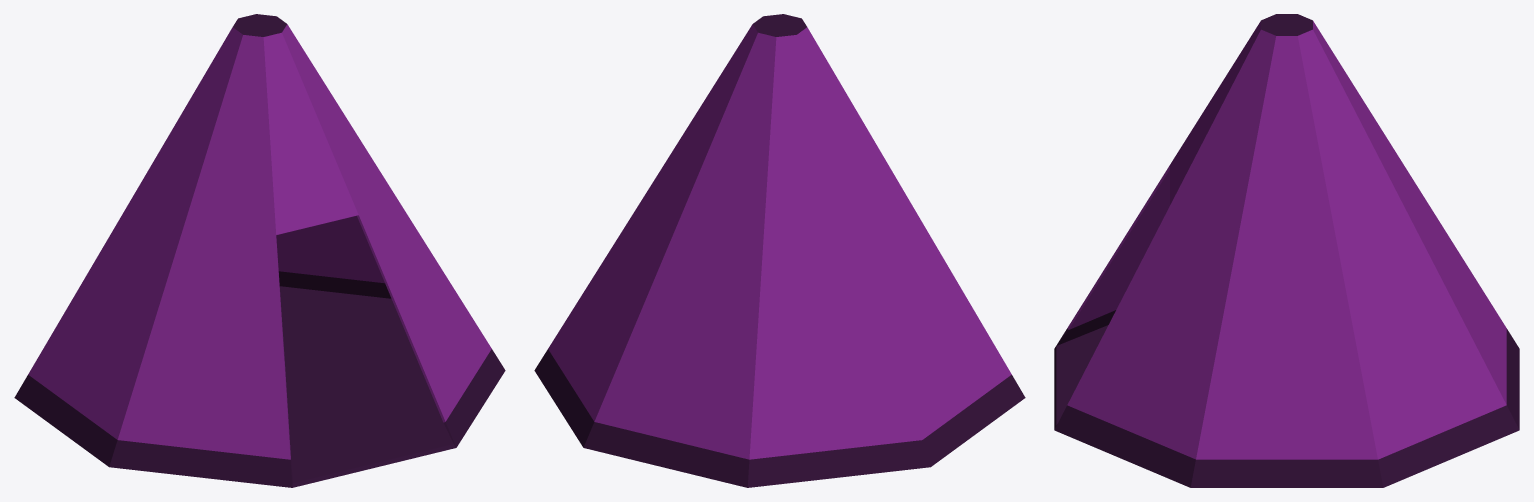
Rendered from Tent_3_Purple.fbx.
3 renders of one model, left to right at view 1: azimuth 30°, elevation 25°; view 2: azimuth 150°, elevation 25°; view 3: azimuth 270°, elevation 25°, orthographic.
Parts seen in each view (by area): view 1: Tent_2_Purple; view 2: Tent_2_Purple; view 3: Tent_2_Purple.
Part boxes in pixels (left/top/right/bottom): Tent_2_Purple: left=14, top=14, right=505, bottom=487; Tent_2_Purple: left=534, top=14, right=1025, bottom=487; Tent_2_Purple: left=1054, top=14, right=1519, bottom=487.
Size of the model in its own units: 240 by 208 by 240.
